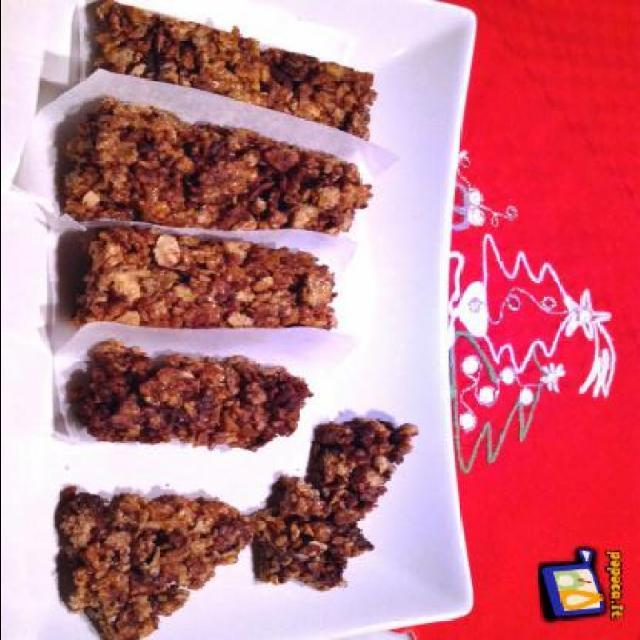Cereal bar packaged: (60, 103, 372, 237), (47, 232, 330, 334), (79, 5, 375, 100), (63, 350, 303, 452)
